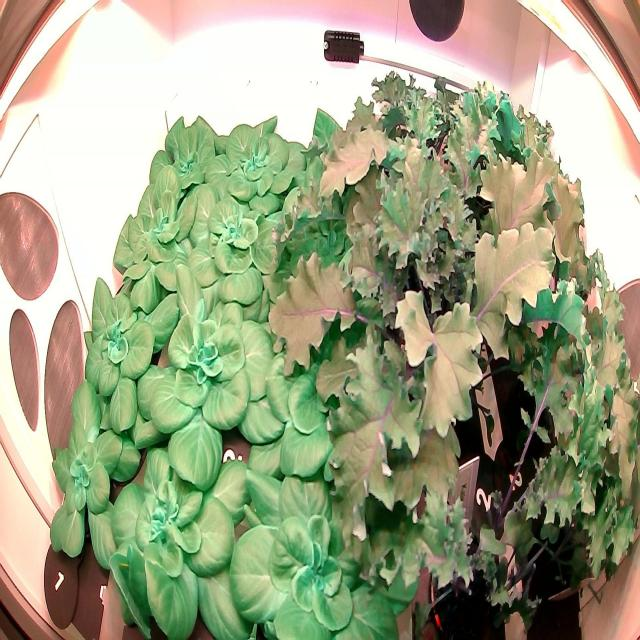young: (227, 446, 414, 638), (109, 418, 249, 639), (243, 301, 390, 473), (136, 316, 254, 477), (49, 376, 144, 574), (84, 269, 170, 440), (108, 164, 198, 320), (174, 196, 282, 320), (200, 115, 308, 225), (146, 110, 220, 198)
